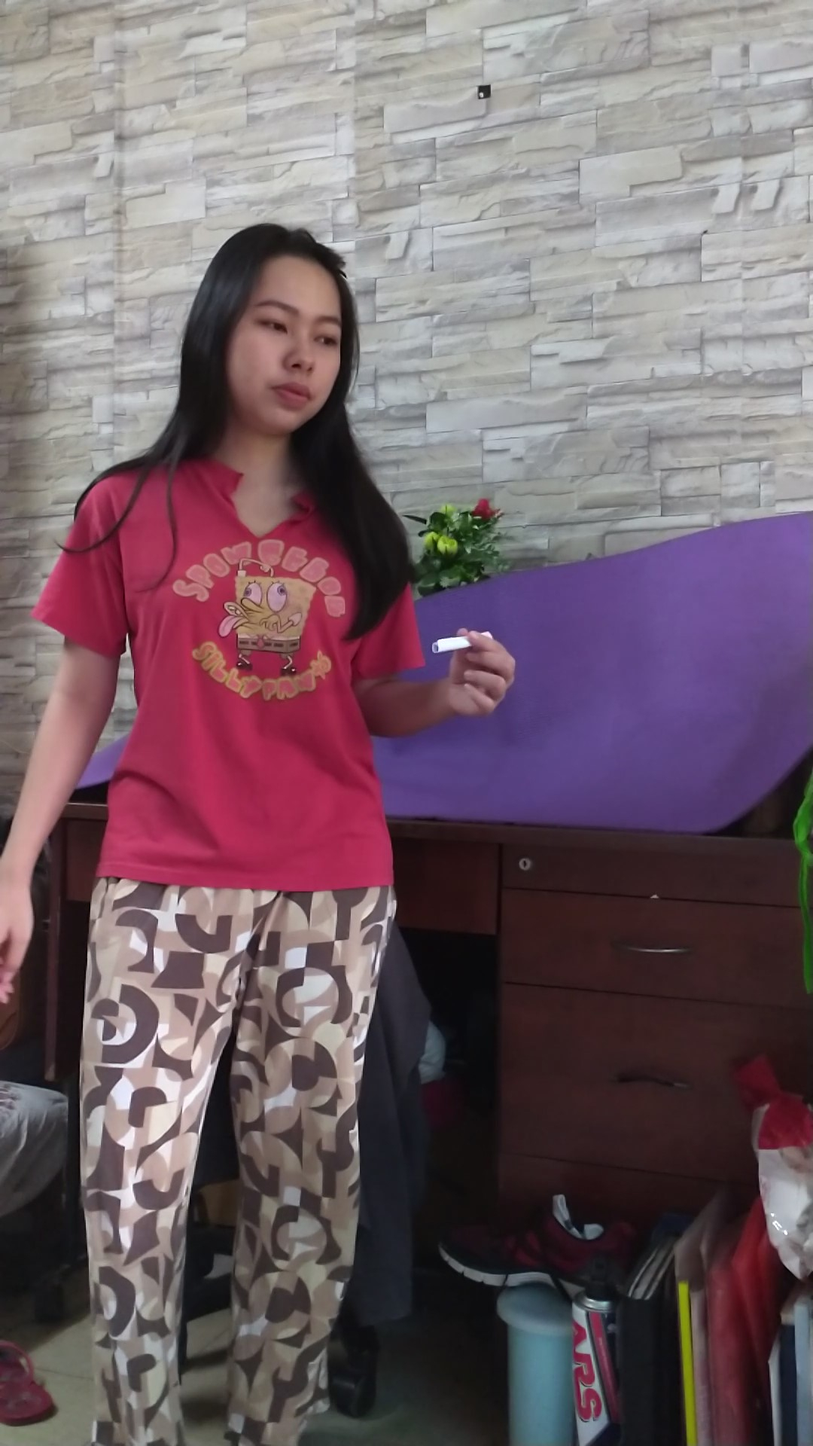cigarette: (425, 630, 480, 659)
person: (9, 217, 508, 1446)
